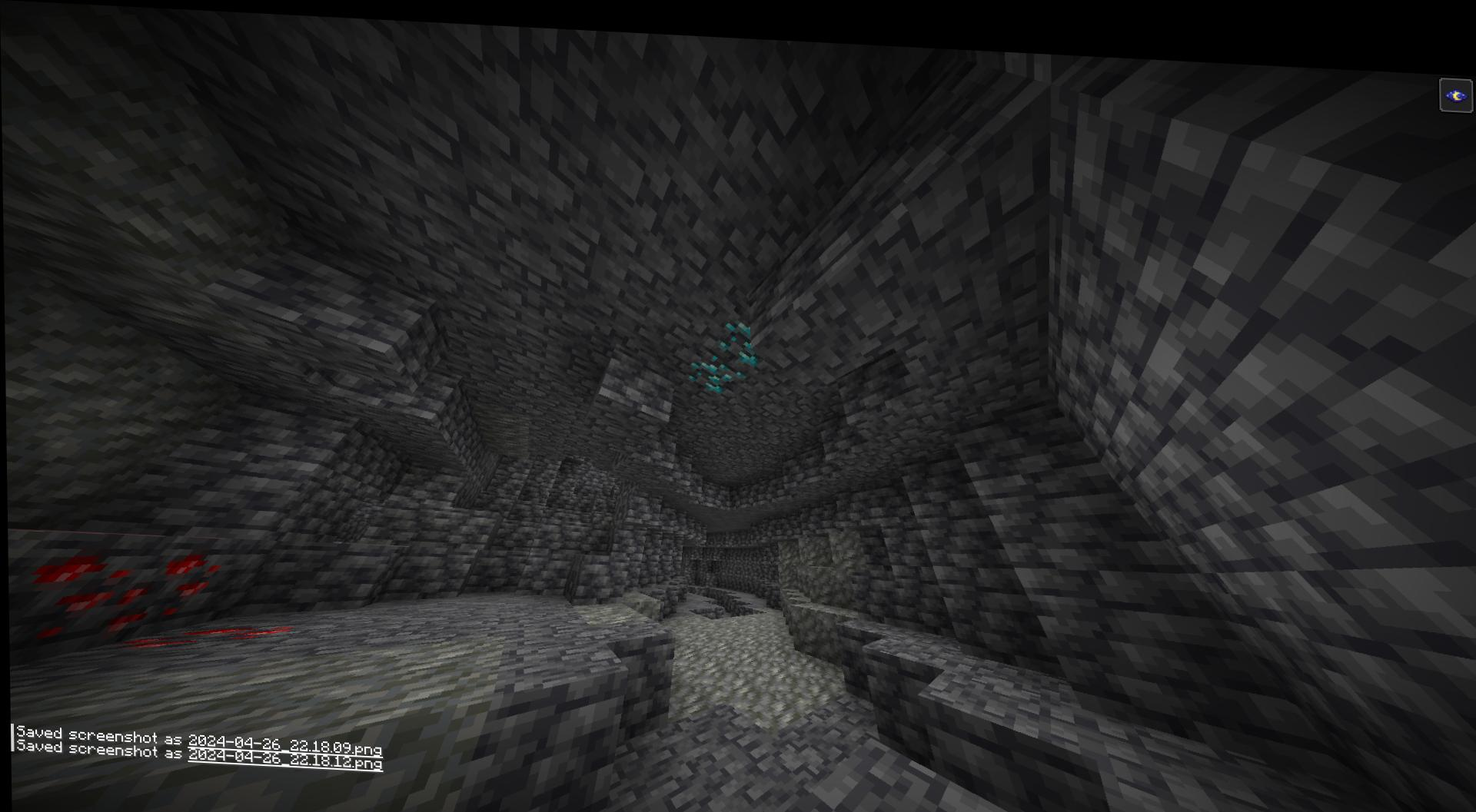diamond ore: (685, 343, 745, 387), (717, 309, 765, 355)
redstone ore: (12, 520, 233, 649)
